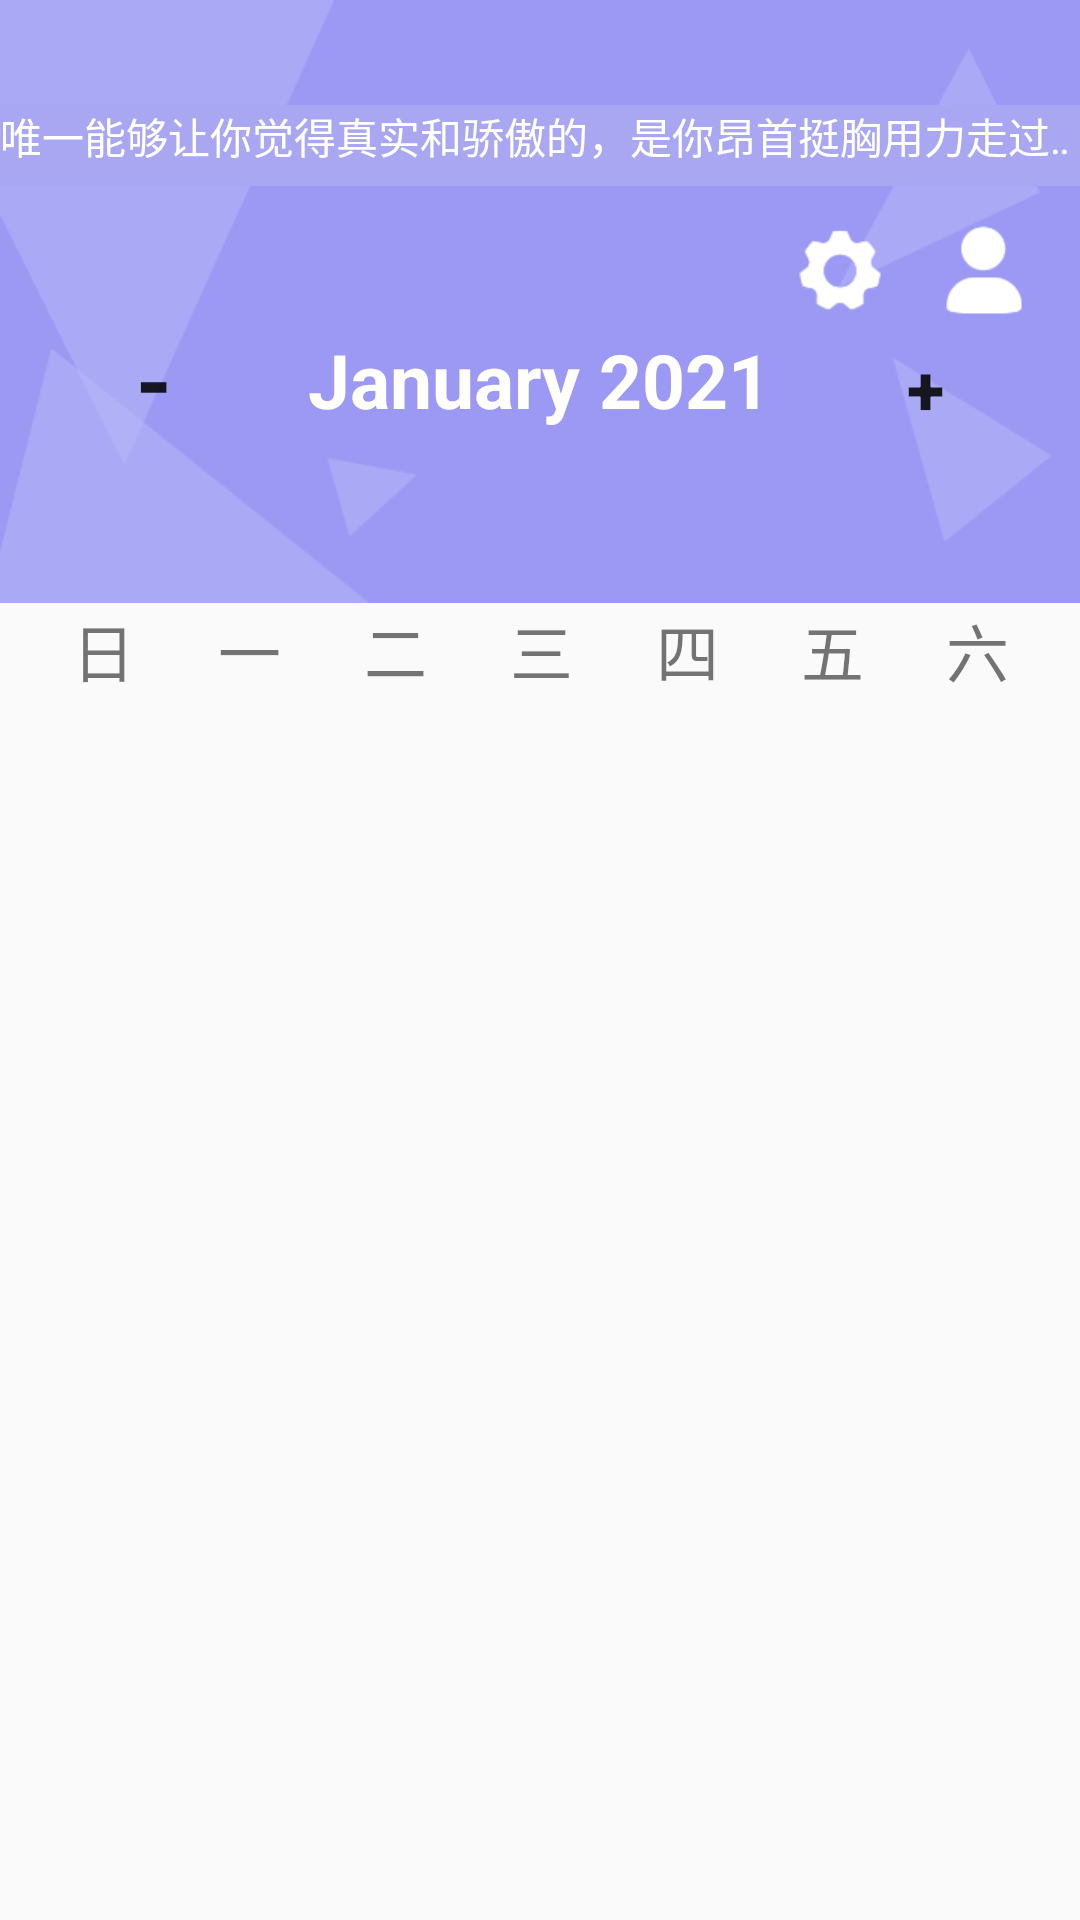

Icon bounding boxes for this 1080x1920 phone screenshot, format (x1=x1, y1=y1, x2=x2, y2=y2):
settings: (x1=799, y1=231, x2=881, y2=310)
user: (x1=946, y1=226, x2=1022, y2=314)
